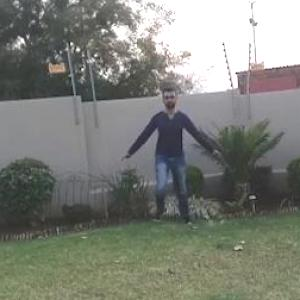land: (117, 84, 226, 228)
